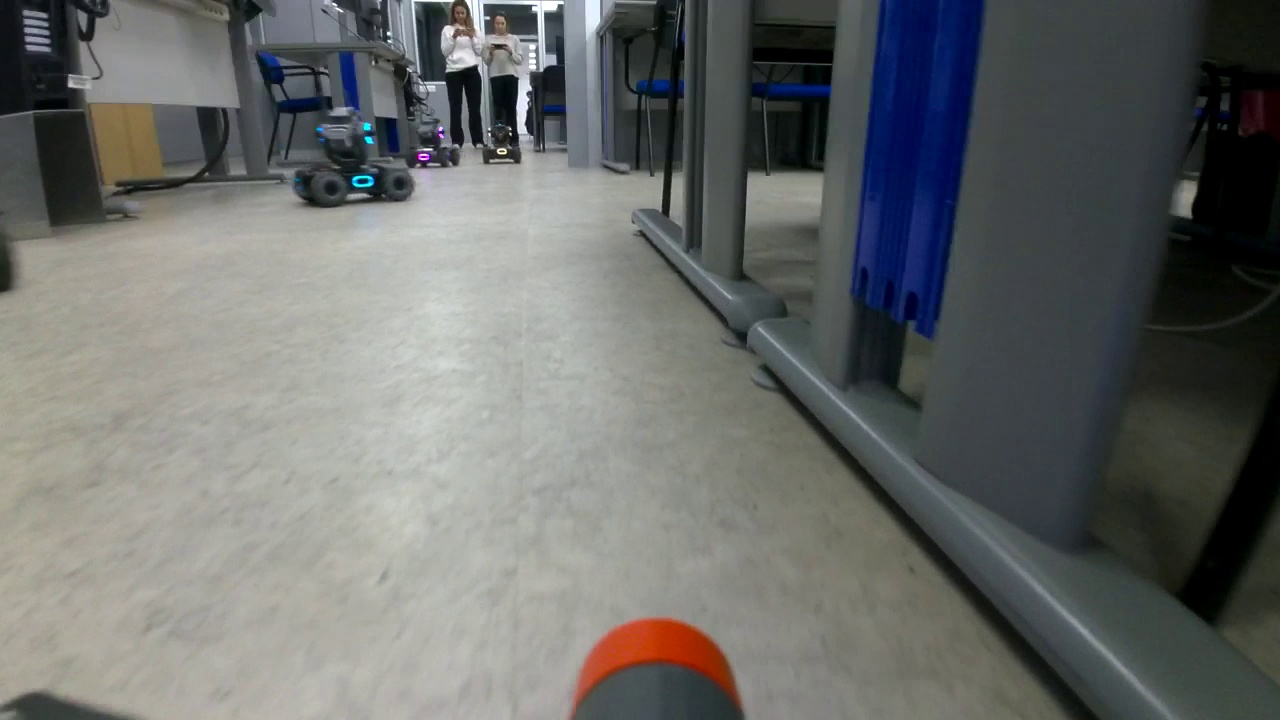robot: (291, 105, 414, 212), (402, 120, 463, 172), (482, 121, 522, 166)
